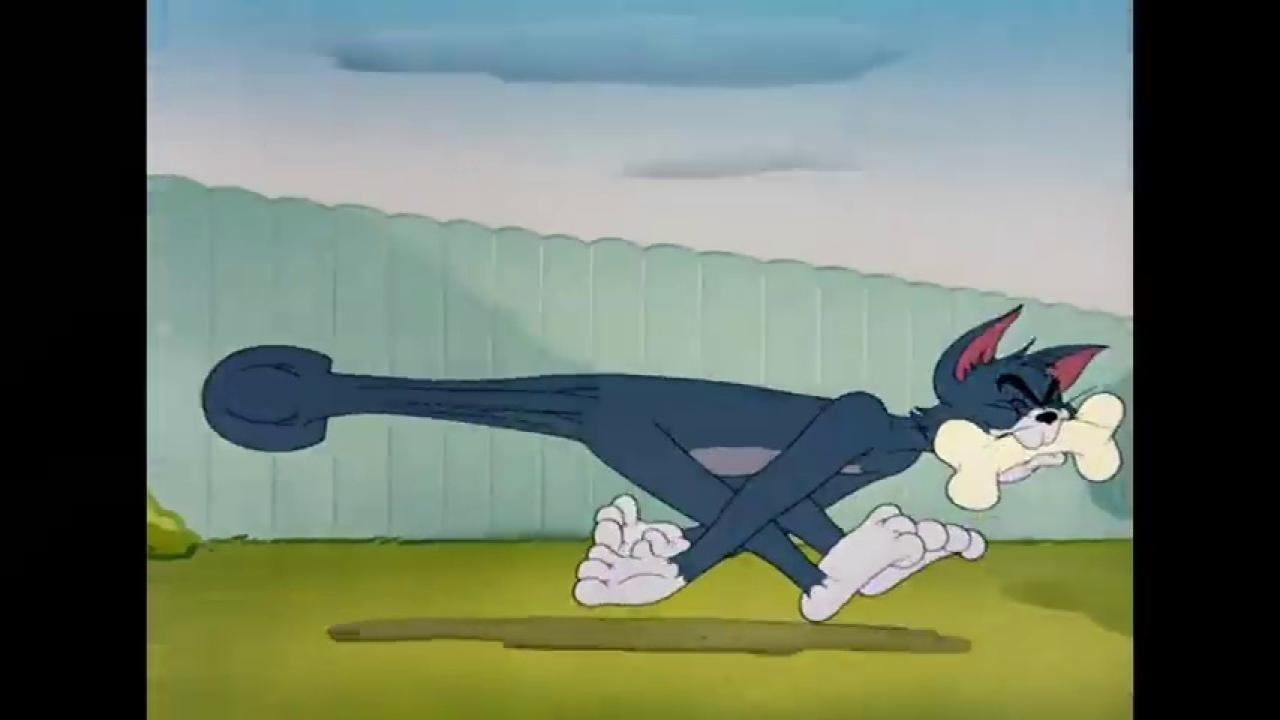Tom: (200, 300, 1110, 627)
